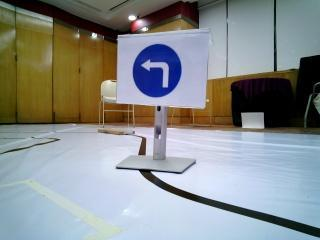left: (120, 37, 207, 102)
